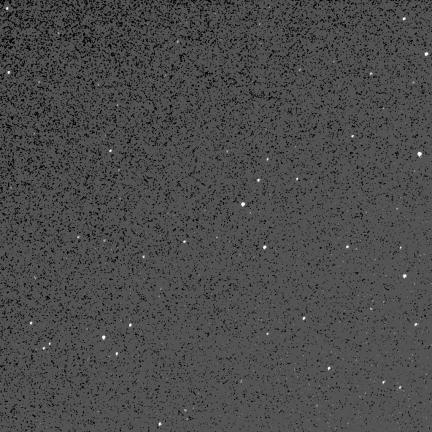blob: (418, 152, 422, 157), (241, 203, 246, 207), (257, 179, 261, 183), (263, 246, 267, 250), (415, 323, 419, 327), (403, 17, 407, 21), (129, 324, 133, 328), (159, 422, 162, 427), (425, 52, 428, 56), (403, 274, 406, 278), (351, 135, 355, 138), (30, 322, 33, 326), (8, 71, 11, 75), (116, 352, 119, 356), (183, 241, 187, 244), (43, 347, 46, 351), (6, 7, 9, 11), (328, 367, 331, 371), (346, 246, 350, 249), (103, 335, 105, 340), (370, 73, 373, 76), (296, 178, 299, 181), (383, 381, 386, 384), (110, 150, 113, 153), (49, 343, 52, 346), (177, 41, 180, 44), (267, 333, 270, 336), (267, 158, 270, 161), (143, 256, 145, 259), (303, 317, 305, 320)
